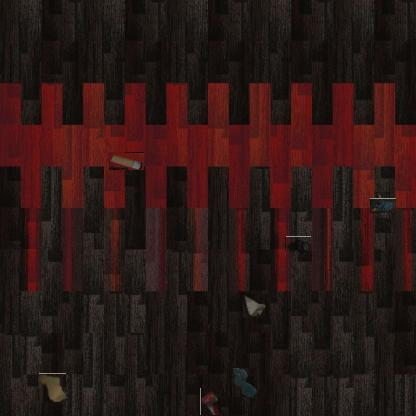dirty: (38, 373, 66, 402), (108, 152, 144, 170), (200, 388, 221, 416), (243, 294, 267, 318), (373, 195, 394, 216)
liquid: (232, 367, 258, 397), (285, 236, 311, 255)
